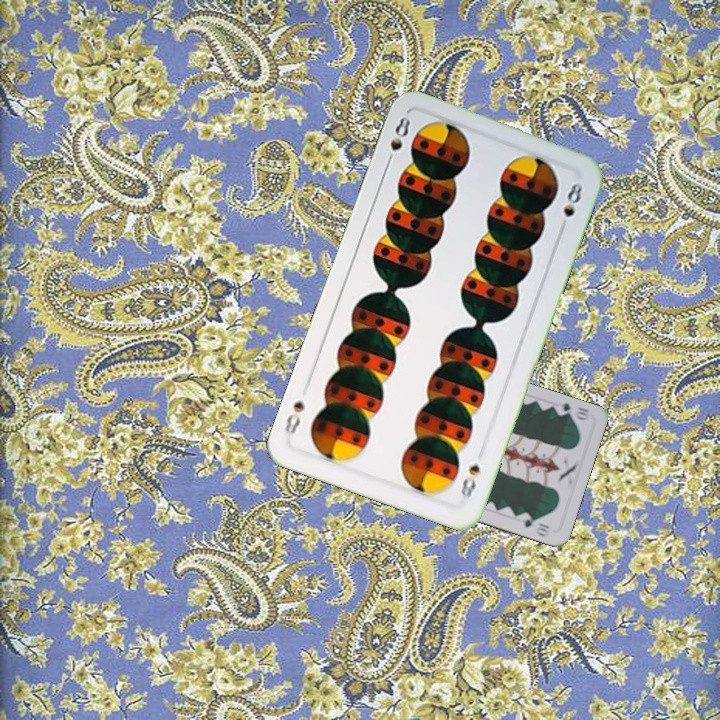G10: (551, 399, 593, 423)
S8: (382, 110, 413, 169), (456, 460, 483, 502)
